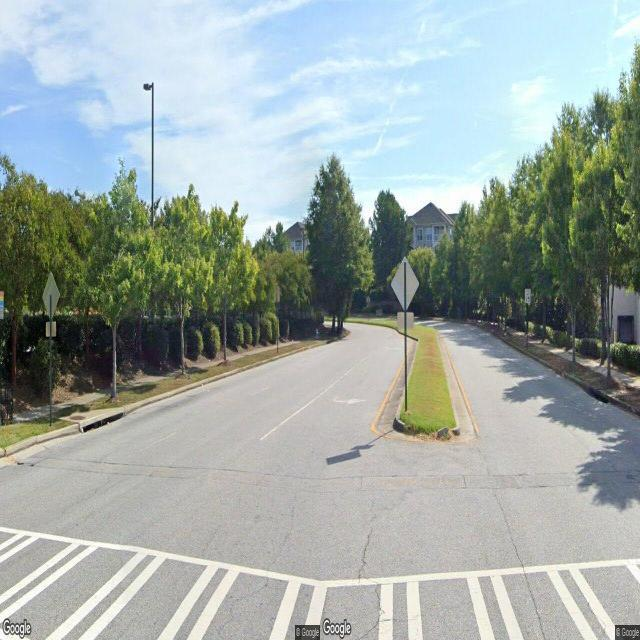trash_can: (0, 384, 14, 424)
